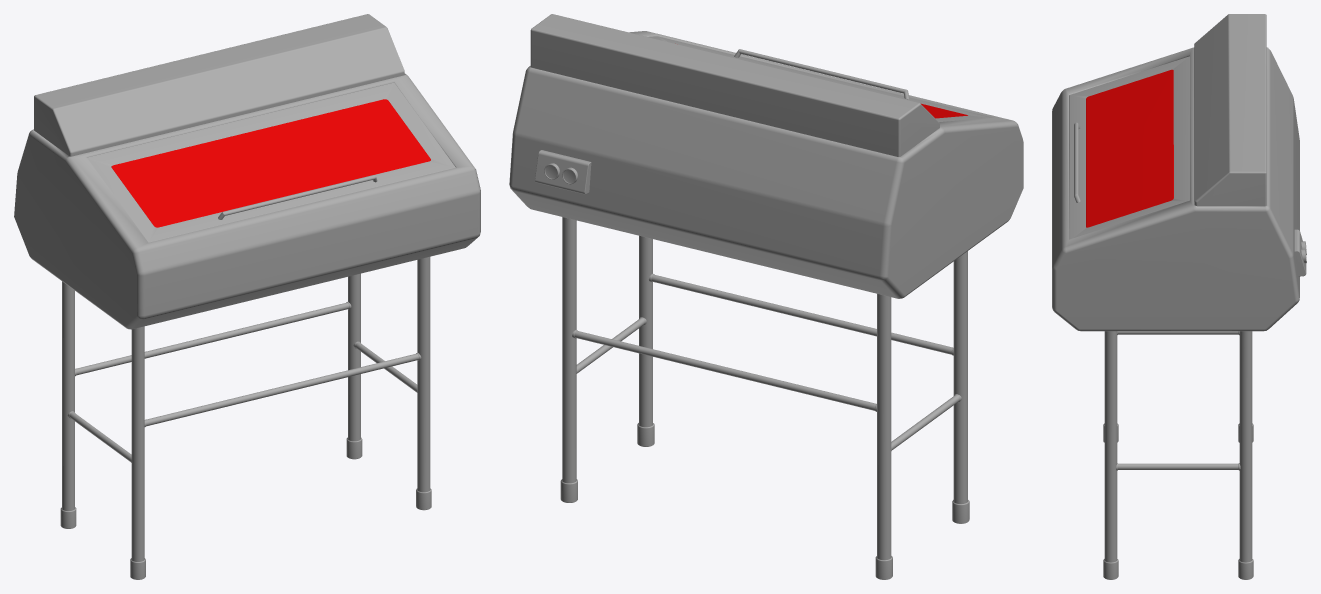
The model's file is Equipment_22.fbx.
The picture shows the model from 3 angles, left to right: view 1: azimuth 30°, elevation 25°; view 2: azimuth 150°, elevation 25°; view 3: azimuth 270°, elevation 25°; orthographic projection. The views are drawn at different scales.
Parts seen in each view (by area): view 1: L4:polySurface1299; view 2: L4:polySurface1299; view 3: L4:polySurface1299.
Boxes of the visible parts, box(x1,y1,x2,y2) form: L4:polySurface1299: box(14, 14, 480, 579); L4:polySurface1299: box(509, 14, 1023, 579); L4:polySurface1299: box(1052, 14, 1306, 579).
Bounding box in the file's own units: 86.29 × 103 × 56.99.
